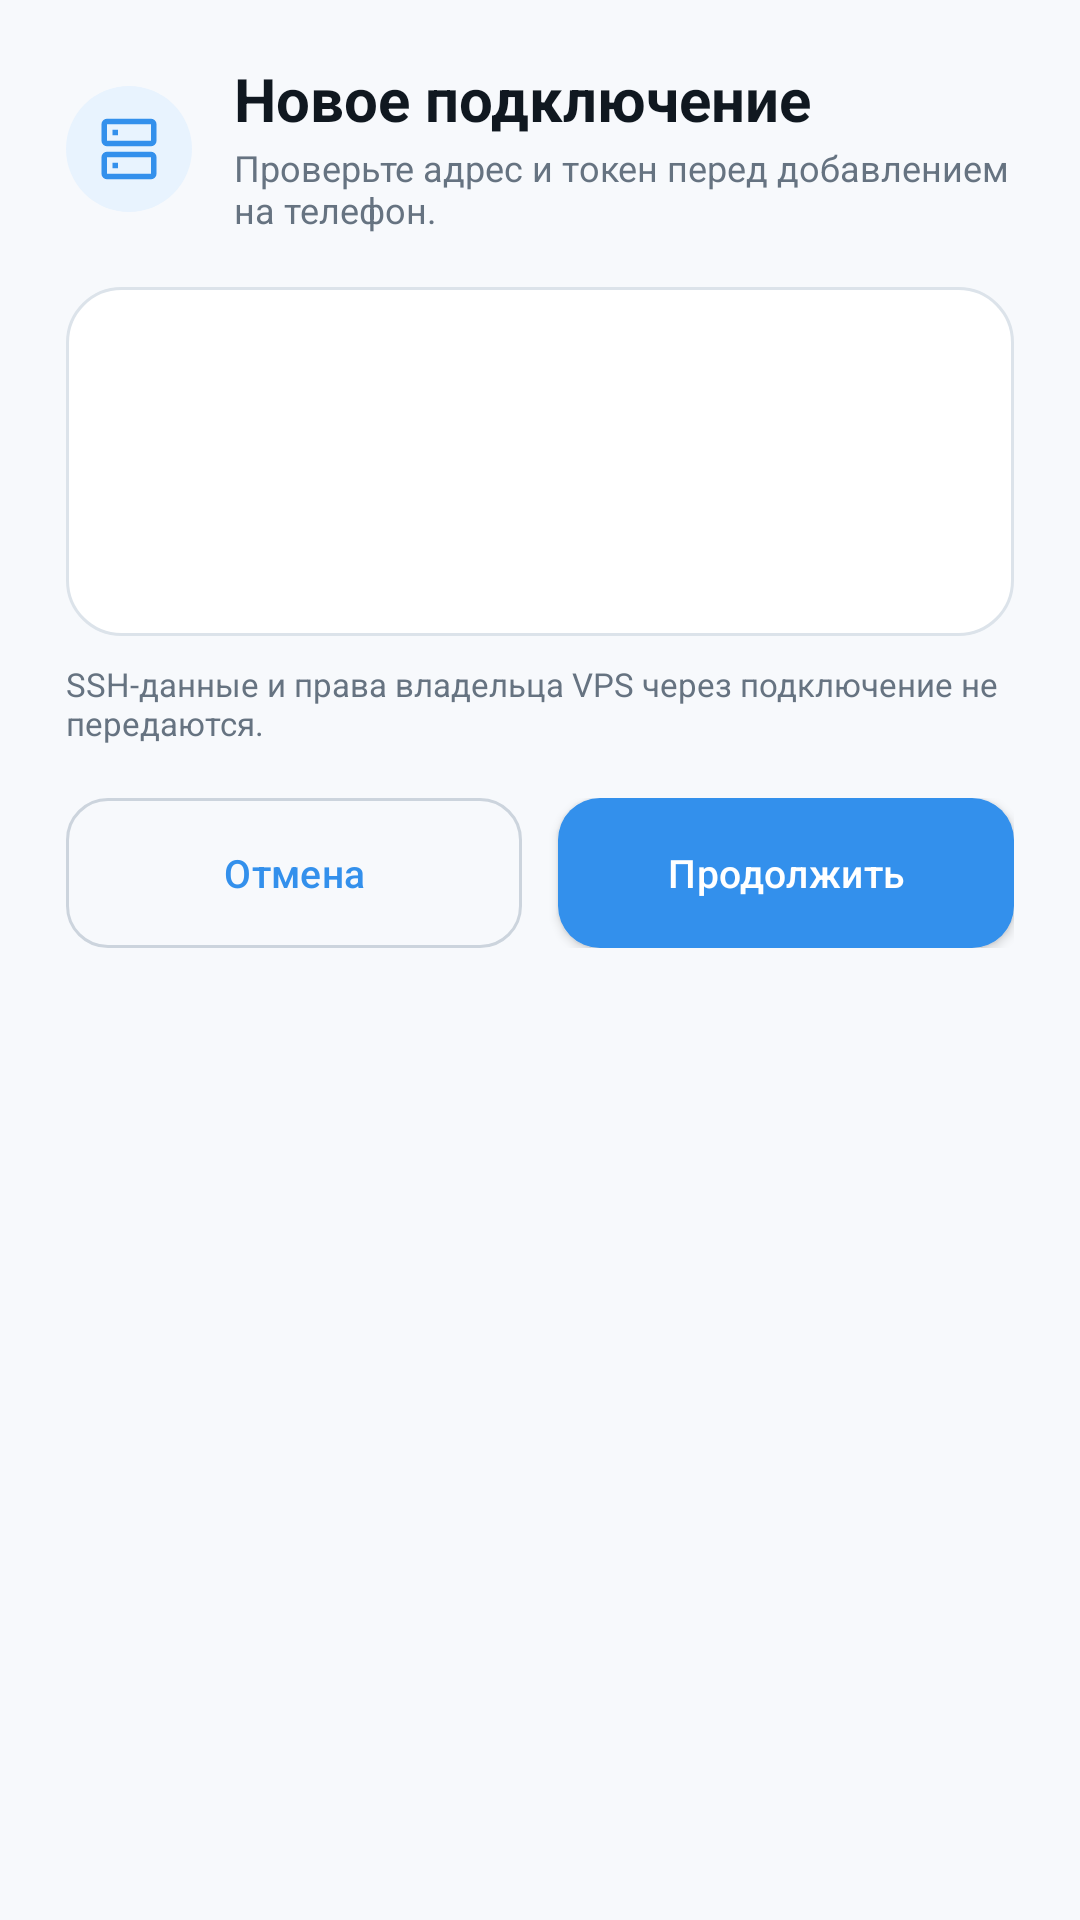

Point at icon controls on the screen. Image size 1080×1920, points as [x,y].
server: [129,149]
